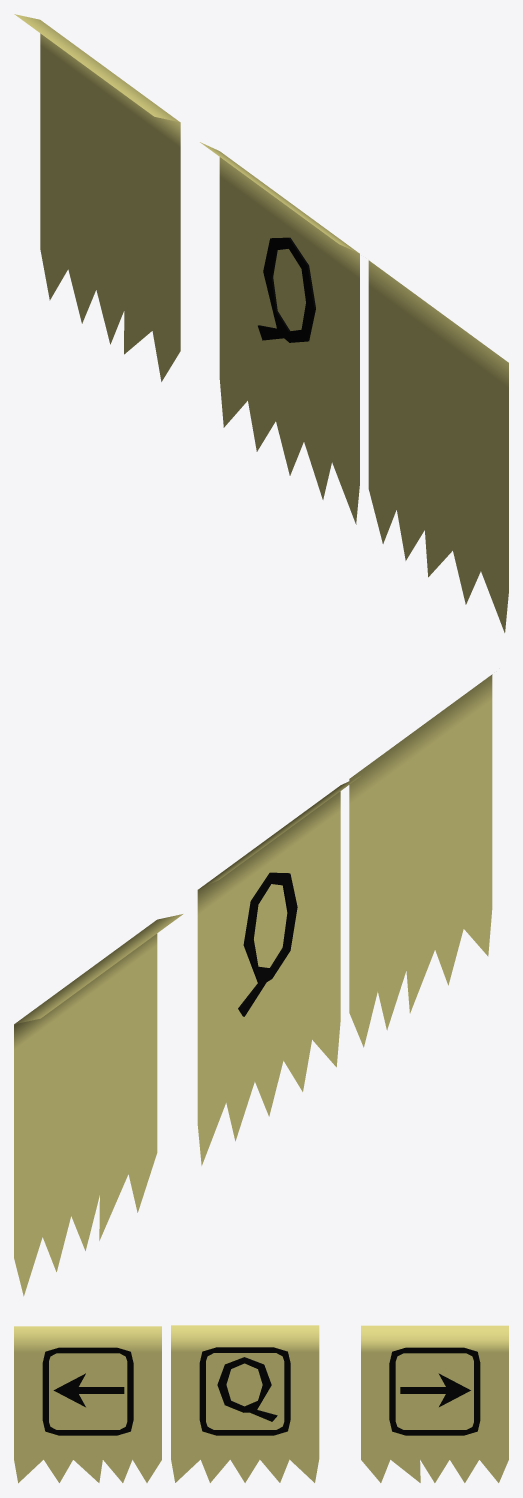
File: tutorial 1.fbx
3 renders of one model, top to bottom at view 1: azimuth 30°, elevation 25°; view 2: azimuth 150°, elevation 25°; view 3: azimuth 270°, elevation 25°, orthographic. The views are drawn at different scales.
Visible parts, largest first — view 1: typeMesh5, polySurface1, typeMesh6, typeMesh7; view 2: typeMesh5, polySurface1, typeMesh6, typeMesh7; view 3: typeMesh5, polySurface1, typeMesh6, typeMesh7.
Part boxes in pixels (box(x1,y1,x2,y2)): typeMesh5: box(14, 14, 180, 381); polySurface1: box(368, 260, 508, 632); typeMesh6: box(200, 142, 359, 524); typeMesh7: box(258, 237, 315, 342); typeMesh5: box(14, 914, 182, 1296); polySurface1: box(349, 674, 492, 1047); typeMesh6: box(197, 776, 360, 1165); typeMesh7: box(238, 872, 297, 1016); typeMesh5: box(361, 1325, 508, 1482); polySurface1: box(14, 1326, 161, 1483); typeMesh6: box(171, 1325, 319, 1482); typeMesh7: box(217, 1357, 277, 1421).
Bounding box in the file's own units: 0.2178 × 2.09 × 6.12.
